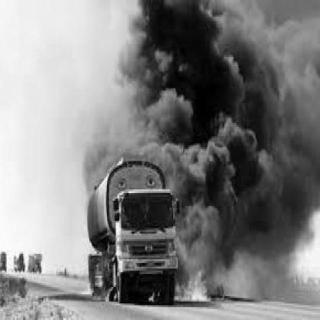Fire: (174, 231, 207, 299)
Smoke: (132, 0, 320, 221)
